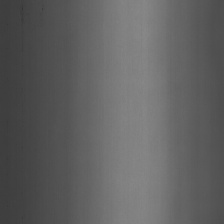inclusion: (17, 2, 26, 54)
